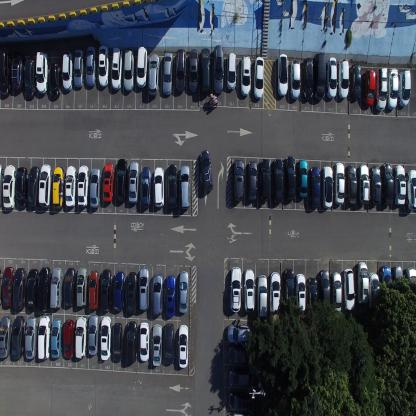car: (12, 267, 27, 311), (38, 163, 52, 208), (2, 164, 16, 209), (200, 148, 214, 192), (24, 316, 38, 360), (229, 266, 242, 313), (212, 44, 224, 94), (243, 267, 256, 313), (125, 320, 138, 366), (314, 51, 326, 100), (379, 264, 392, 309), (11, 315, 24, 360), (0, 314, 13, 359), (166, 162, 178, 210), (342, 267, 355, 311), (27, 165, 40, 209), (147, 52, 160, 96), (35, 50, 48, 94), (392, 264, 404, 311), (38, 265, 50, 312), (15, 166, 28, 209), (272, 158, 284, 204), (284, 155, 296, 201), (375, 66, 387, 112), (228, 368, 254, 389), (356, 260, 368, 305), (269, 271, 281, 316), (138, 266, 150, 311), (75, 315, 87, 360), (38, 315, 50, 360), (77, 163, 89, 208), (302, 56, 314, 101), (321, 164, 333, 208), (100, 268, 112, 312), (26, 267, 38, 311), (52, 166, 64, 210), (226, 324, 252, 344), (226, 346, 252, 366), (0, 46, 10, 98), (50, 266, 62, 309), (98, 44, 110, 87), (227, 391, 254, 410), (116, 158, 127, 204), (188, 48, 199, 94), (111, 46, 122, 92), (309, 165, 321, 207), (394, 164, 406, 206), (2, 265, 14, 307), (102, 161, 114, 203), (89, 167, 101, 209), (23, 57, 35, 99), (11, 49, 23, 91), (334, 161, 345, 206), (382, 161, 393, 206), (405, 266, 416, 311), (257, 274, 268, 319), (178, 323, 189, 368), (126, 270, 137, 315), (175, 48, 186, 93), (123, 48, 134, 93), (64, 266, 76, 307), (200, 46, 210, 95), (178, 270, 189, 314), (164, 322, 175, 366), (152, 272, 163, 316), (100, 316, 111, 360), (88, 312, 99, 356), (179, 164, 190, 208), (140, 165, 151, 209), (128, 160, 139, 204), (326, 56, 337, 100), (253, 56, 264, 100), (240, 53, 251, 97), (398, 70, 411, 107), (306, 275, 318, 315), (346, 163, 357, 206), (51, 317, 62, 360), (65, 164, 76, 207), (277, 53, 288, 96), (136, 45, 147, 88), (85, 45, 96, 88), (358, 162, 369, 204), (331, 271, 342, 313), (319, 268, 330, 310), (283, 268, 294, 310), (114, 270, 125, 312), (63, 318, 74, 360), (387, 68, 398, 110), (363, 68, 375, 106), (88, 269, 99, 310), (76, 266, 87, 307), (289, 58, 300, 99), (233, 157, 243, 202), (260, 157, 270, 202), (370, 165, 381, 205), (295, 272, 306, 312), (166, 274, 176, 318), (152, 323, 162, 367), (162, 51, 172, 95), (73, 49, 84, 89), (247, 160, 257, 203), (406, 168, 416, 211), (154, 166, 164, 209), (338, 57, 348, 100), (112, 322, 122, 364), (297, 158, 307, 199), (49, 62, 60, 99), (369, 271, 379, 311), (140, 322, 150, 362), (62, 51, 72, 91), (226, 51, 236, 90), (351, 62, 361, 100), (0, 163, 3, 208), (227, 412, 254, 415), (0, 266, 2, 306)
